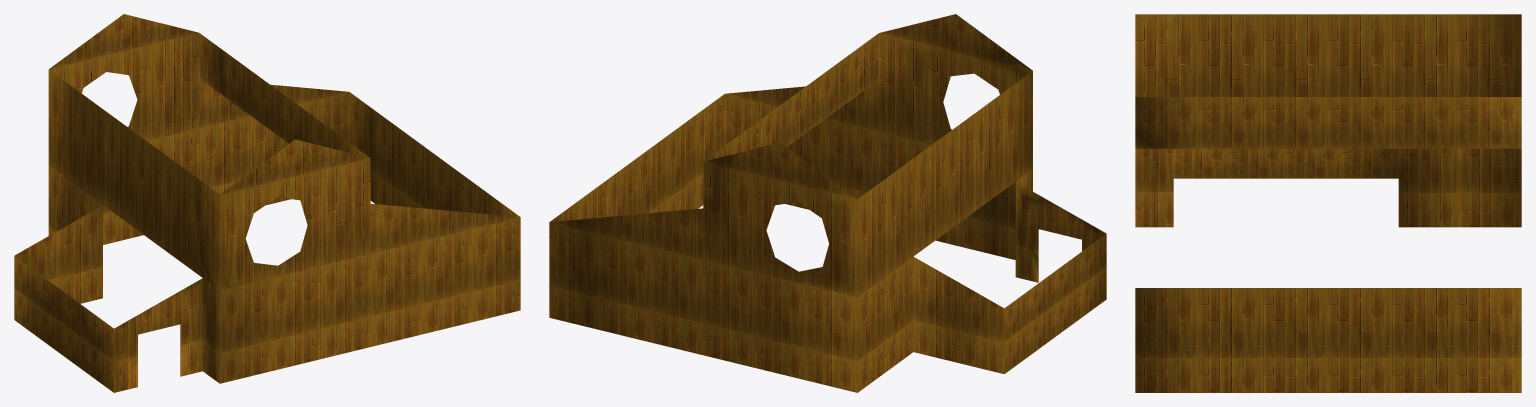
File: HTOWN01_MILLEXT.fbx
The picture shows the model from 3 angles, left to right: view 1: azimuth 30°, elevation 25°; view 2: azimuth 150°, elevation 25°; view 3: azimuth 270°, elevation 25°; orthographic projection. The views are drawn at different scales.
Visible parts, largest first — view 1: HTOWN01_MILLEXT; view 2: HTOWN01_MILLEXT; view 3: HTOWN01_MILLEXT.
Part boxes in pixels (bbox=[...]): HTOWN01_MILLEXT: bbox=[14, 14, 520, 392]; HTOWN01_MILLEXT: bbox=[549, 14, 1106, 392]; HTOWN01_MILLEXT: bbox=[1135, 14, 1521, 392].
Size of the model in its own units: 171612 by 95133 by 130709.
Materials: 1 (1 with a texture image).
